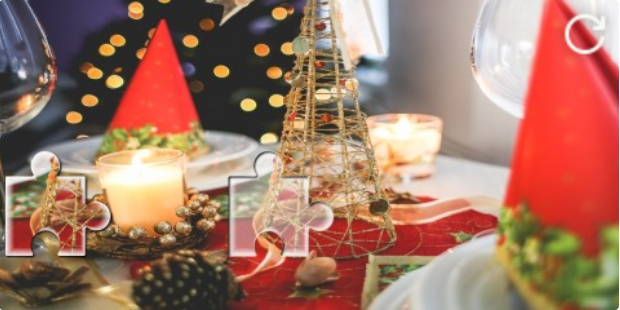target: (228, 152, 333, 257)
